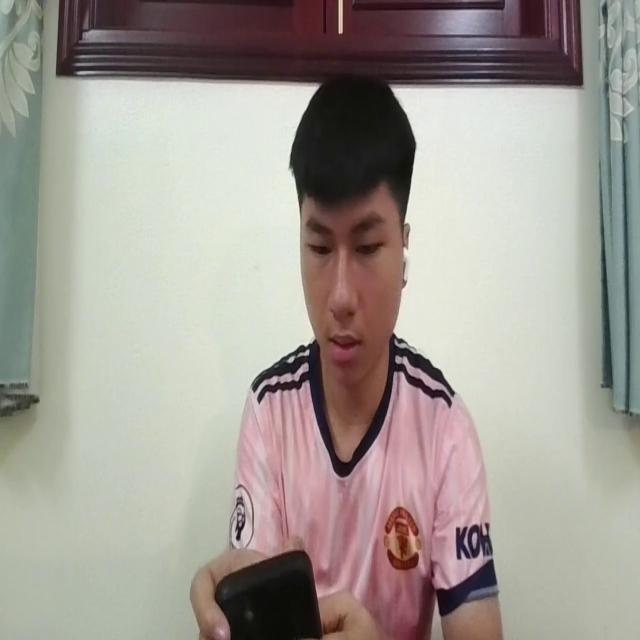phone: (210, 542, 323, 640)
student: (195, 66, 502, 640)
